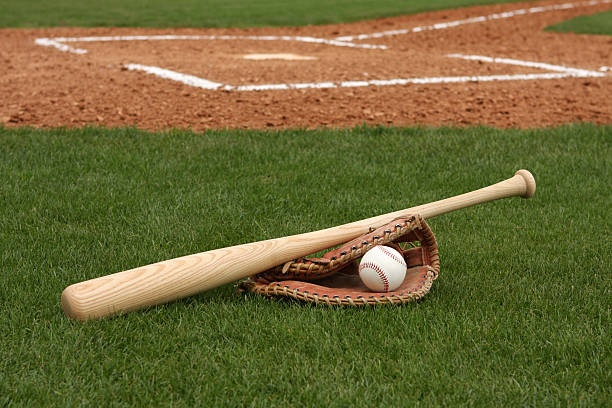bita: (65, 167, 537, 319)
